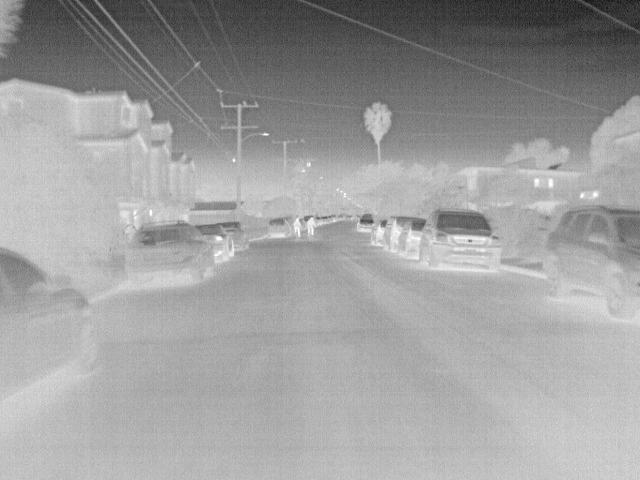car: (1, 239, 97, 410), (545, 204, 638, 320), (126, 218, 214, 289), (417, 206, 503, 271), (190, 223, 230, 263), (384, 216, 421, 251), (398, 218, 426, 262), (218, 218, 247, 252), (265, 218, 289, 240), (371, 219, 389, 245), (359, 214, 380, 230)
person: (304, 212, 319, 236), (291, 215, 304, 240)
